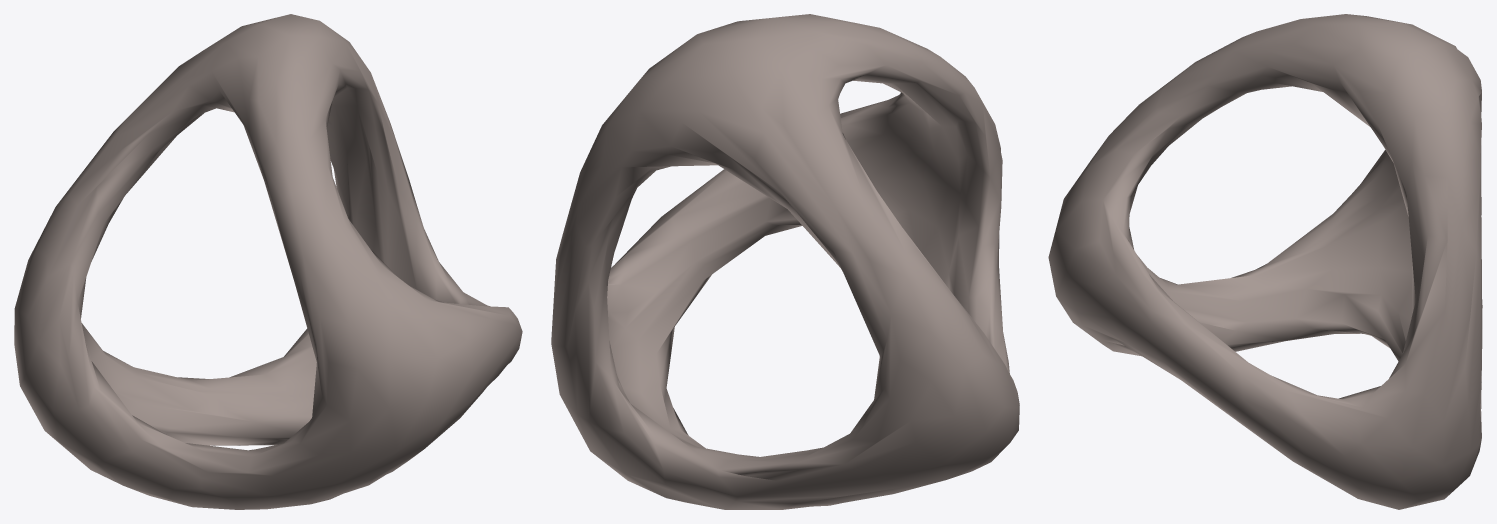
The picture shows the model from 3 angles, left to right: view 1: azimuth 30°, elevation 25°; view 2: azimuth 150°, elevation 25°; view 3: azimuth 270°, elevation 25°; orthographic projection. The views are drawn at different scales.
Visible parts, largest first — view 1: Moebius_07; view 2: Moebius_07; view 3: Moebius_07.
Boxes of the visible parts, left/top/right/bottom form: Moebius_07: left=14, top=14, right=522, bottom=509; Moebius_07: left=551, top=14, right=1019, bottom=509; Moebius_07: left=1048, top=14, right=1482, bottom=509.
Size of the model in its own units: 290 by 283 by 255.
1 material, 1 textured.
